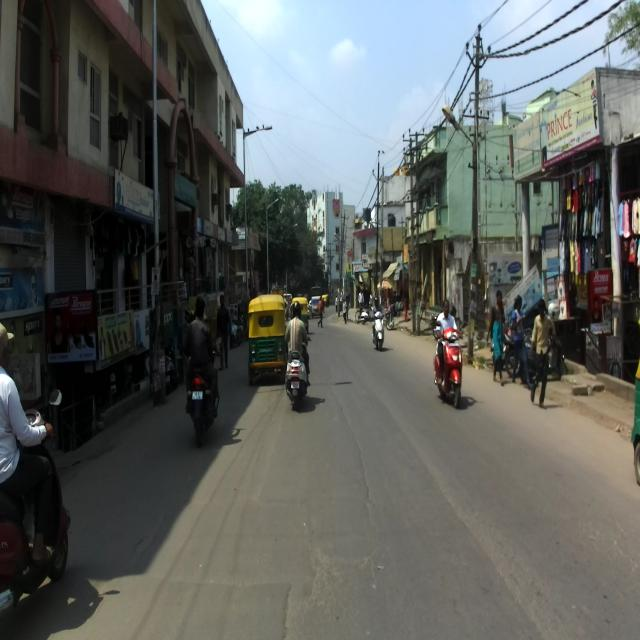auto ahead at: (245, 297, 288, 381)
motorcycle ahead at: (182, 354, 228, 446), (429, 318, 470, 415)
